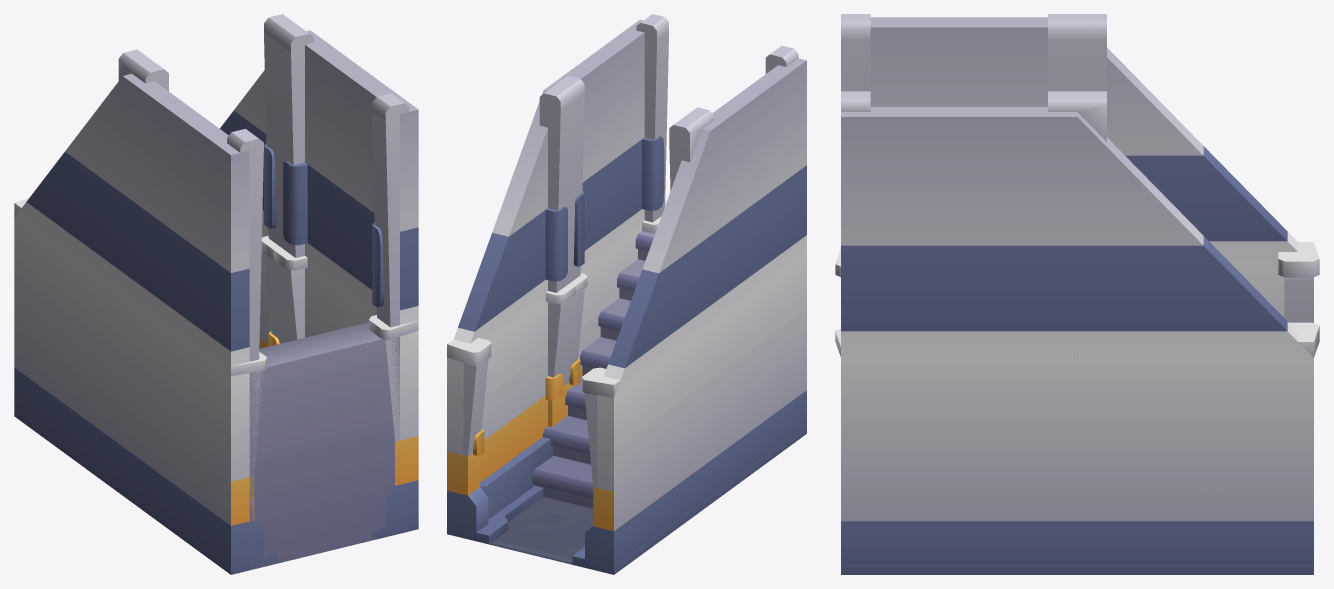
The model's file is stairs.glb.
The picture shows the model from 3 angles, left to right: view 1: azimuth 30°, elevation 25°; view 2: azimuth 150°, elevation 25°; view 3: azimuth 270°, elevation 25°; orthographic projection. The views are drawn at different scales.
Parts seen in each view (by area): view 1: stairs; view 2: stairs; view 3: stairs.
Part boxes in pixels (x1,y1,x2,y2): stairs: (14,14,418,574); stairs: (447,14,806,574); stairs: (835,14,1319,574).
Bounding box in the file's own units: 4 × 8.75 × 8.2.
Materials: 1 (1 with a texture image).
